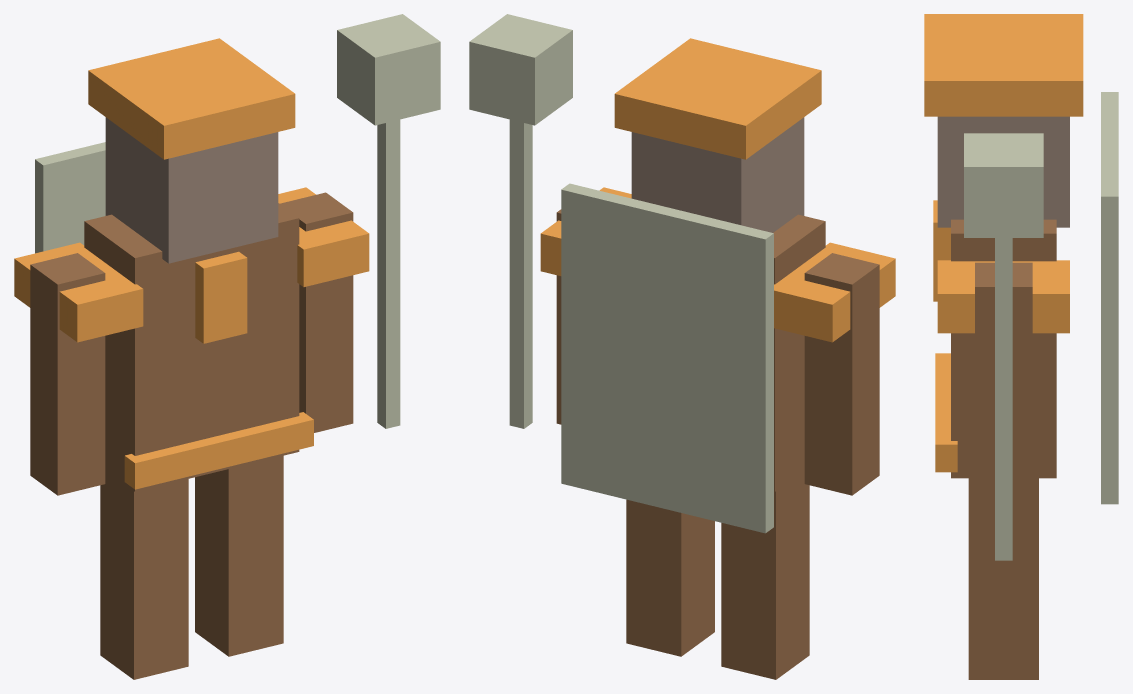
The model's file is 01_luma_stormhush_captain_from_glyph.glb.
3 renders of one model, left to right at view 1: azimuth 30°, elevation 25°; view 2: azimuth 150°, elevation 25°; view 3: azimuth 270°, elevation 25°, orthographic. The views are drawn at different scales.
Visible parts, largest first — view 1: Luma Stormhush, Captain from Glyph; view 2: Luma Stormhush, Captain from Glyph; view 3: Luma Stormhush, Captain from Glyph.
Boxes of the visible parts, box(x1,y1,x2,y2) form: Luma Stormhush, Captain from Glyph: box(14, 14, 440, 679); Luma Stormhush, Captain from Glyph: box(469, 14, 895, 679); Luma Stormhush, Captain from Glyph: box(924, 14, 1118, 679).
Bounding box in the file's own units: 0.9876 × 1.42 × 0.4198.
